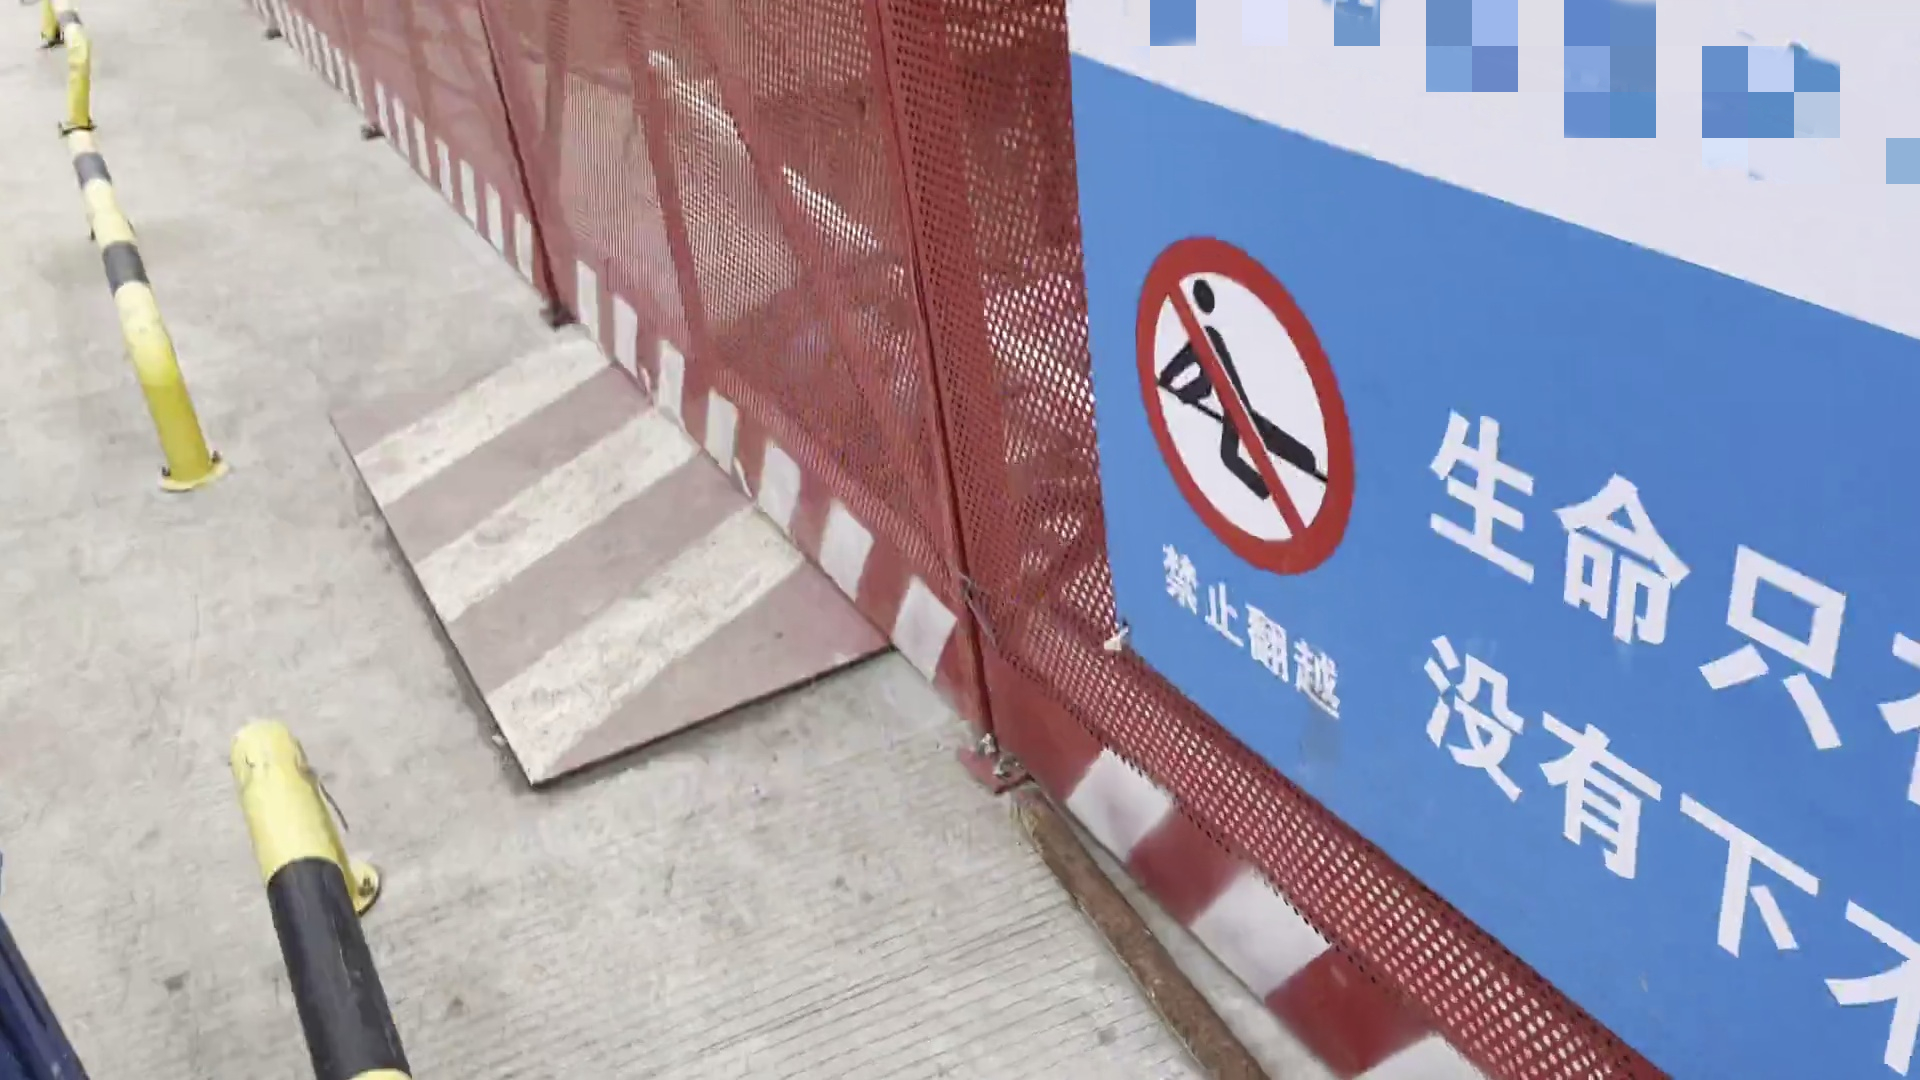fence: (707, 1, 1920, 1080), (252, 1, 1102, 440)
slogan: (1040, 1, 1920, 1080)
